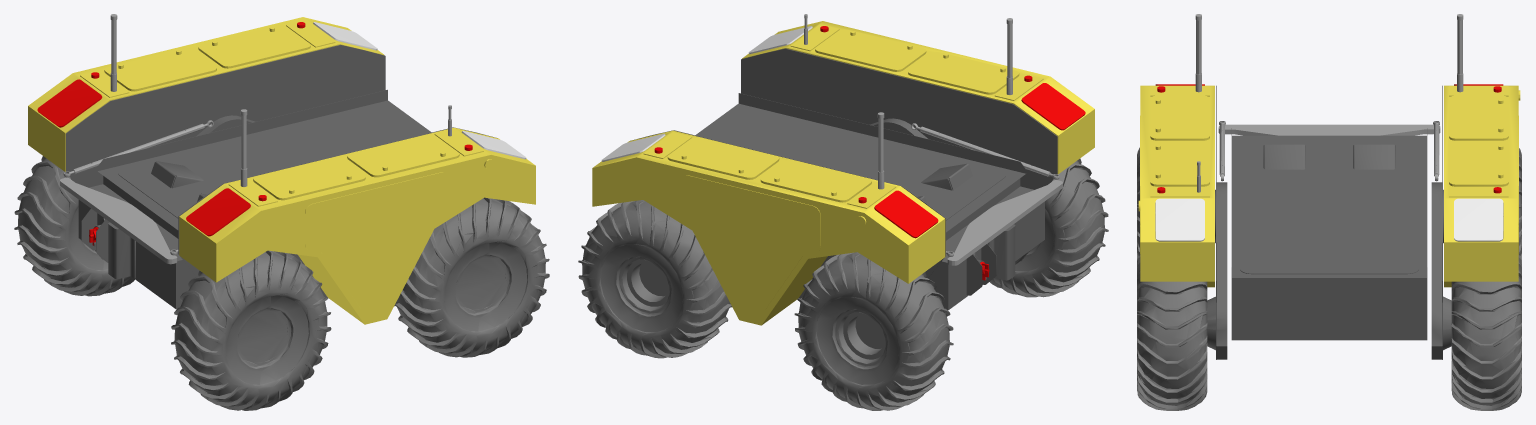
File: warthog.glb
3 views of the same model, side by side, from view 1: azimuth 30°, elevation 25°; view 2: azimuth 150°, elevation 25°; view 3: azimuth 270°, elevation 25° (orthographic).
Visible parts, largest first — view 1: cuerpo_amarillo, cuerpo_negro, rueda_tras_der, rueda_del_der, rueda_tras_izq, cuerpo_grisClaro, cuerpo_rojo, cuerpo_blanco; view 2: cuerpo_amarillo, cuerpo_negro, rueda_tras_izq, rueda_del_izq, rueda_tras_der, cuerpo_grisClaro, cuerpo_rojo, cuerpo_blanco; view 3: cuerpo_negro, cuerpo_amarillo, rueda_del_der, rueda_del_izq, cuerpo_blanco, cuerpo_grisClaro, cuerpo_rojo, rueda_tras_izq.
Part boxes in pixels (bbox=[...]): cuerpo_amarillo: bbox=[28, 17, 535, 324]; cuerpo_negro: bbox=[65, 44, 497, 309]; rueda_tras_der: bbox=[171, 250, 331, 410]; rueda_del_der: bbox=[394, 197, 549, 357]; rueda_tras_izq: bbox=[14, 156, 134, 296]; cuerpo_grisClaro: bbox=[60, 14, 451, 264]; cuerpo_rojo: bbox=[37, 22, 472, 245]; cuerpo_blanco: bbox=[313, 22, 526, 159]; cuerpo_amarillo: bbox=[592, 21, 1094, 325]; cuerpo_negro: bbox=[630, 48, 1057, 310]; rueda_tras_izq: bbox=[794, 252, 953, 410]; rueda_del_izq: bbox=[578, 200, 731, 358]; rueda_tras_der: bbox=[990, 158, 1108, 297]; cuerpo_grisClaro: bbox=[804, 14, 1062, 265]; cuerpo_rojo: bbox=[654, 26, 1085, 280]; cuerpo_blanco: bbox=[601, 26, 812, 161]; cuerpo_negro: bbox=[1207, 85, 1451, 359]; cuerpo_amarillo: bbox=[1138, 85, 1520, 287]; rueda_del_der: bbox=[1137, 254, 1207, 410]; rueda_del_izq: bbox=[1451, 255, 1521, 410]; cuerpo_blanco: bbox=[1155, 198, 1503, 241]; cuerpo_grisClaro: bbox=[1195, 14, 1463, 192]; cuerpo_rojo: bbox=[1155, 84, 1503, 193]; rueda_tras_izq: bbox=[1503, 148, 1521, 260].
Bounding box in the file's own units: 1.52 × 1.13 × 1.39.
